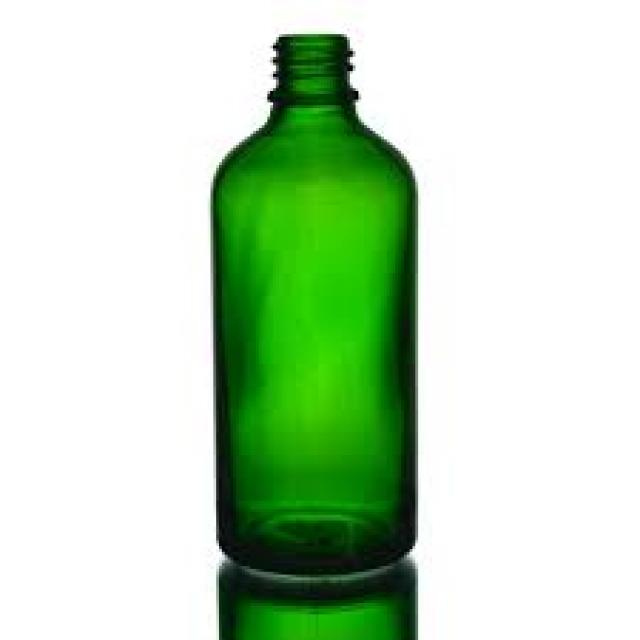Glass: (206, 29, 421, 579)
